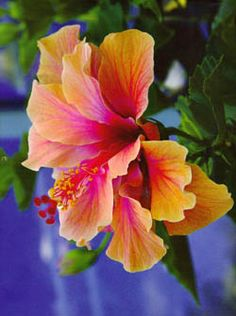Hibiscus: (27, 20, 223, 270)
